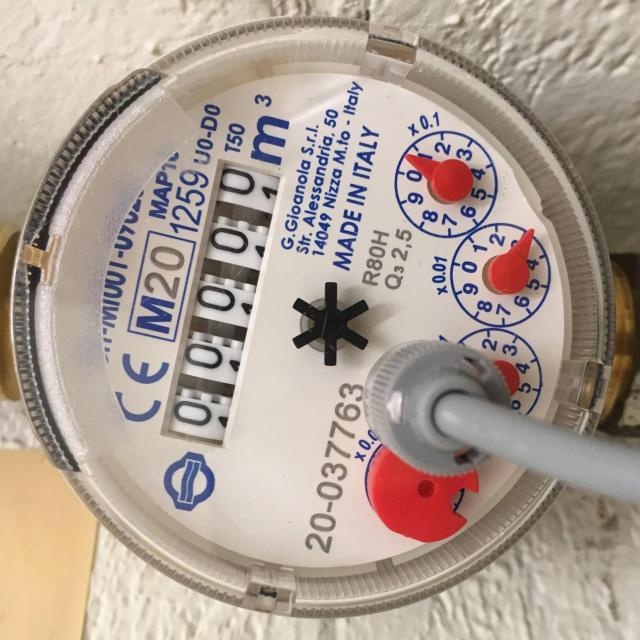gaz_meter: (36, 18, 604, 608)
indication: (156, 157, 282, 454)
